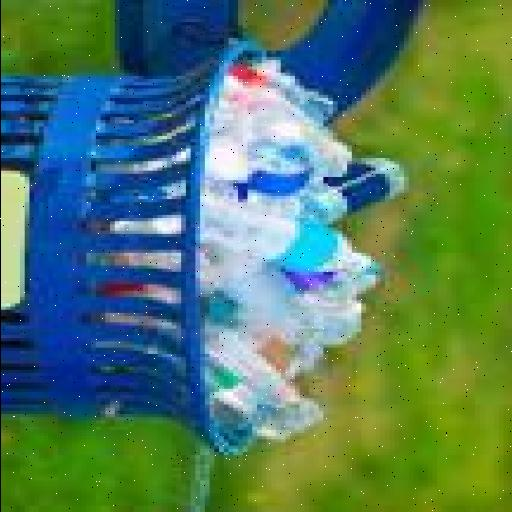poubelle_pleine: (0, 23, 388, 465)
